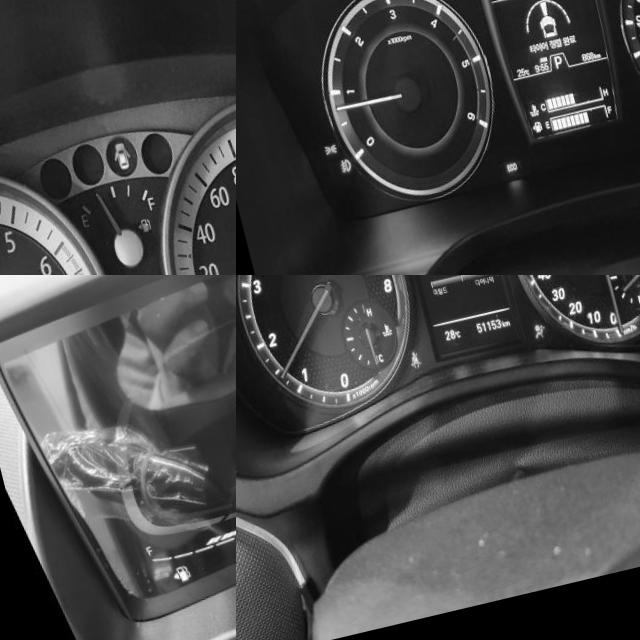FrontFogLight: (317, 163, 331, 178)
SideLamp: (302, 148, 317, 160)
